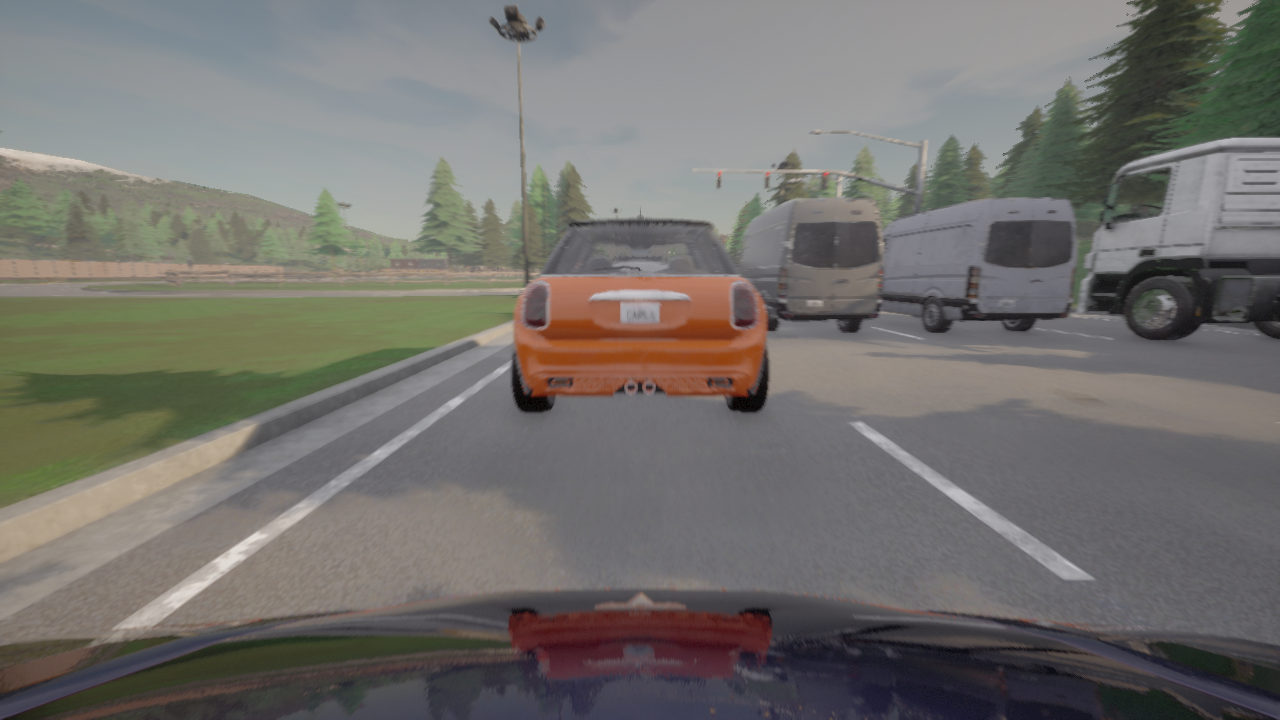cyclist: (0, 588, 1279, 719), (511, 205, 768, 411), (1076, 137, 1279, 341), (881, 198, 1077, 331), (730, 199, 883, 331)
